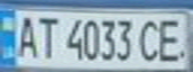0: (81, 16, 100, 62)
3: (115, 16, 139, 62), (100, 16, 118, 62)
4: (60, 15, 84, 61)
A: (12, 12, 42, 60)
C: (136, 16, 163, 63)
E: (154, 15, 190, 63)
T: (33, 13, 60, 60)
